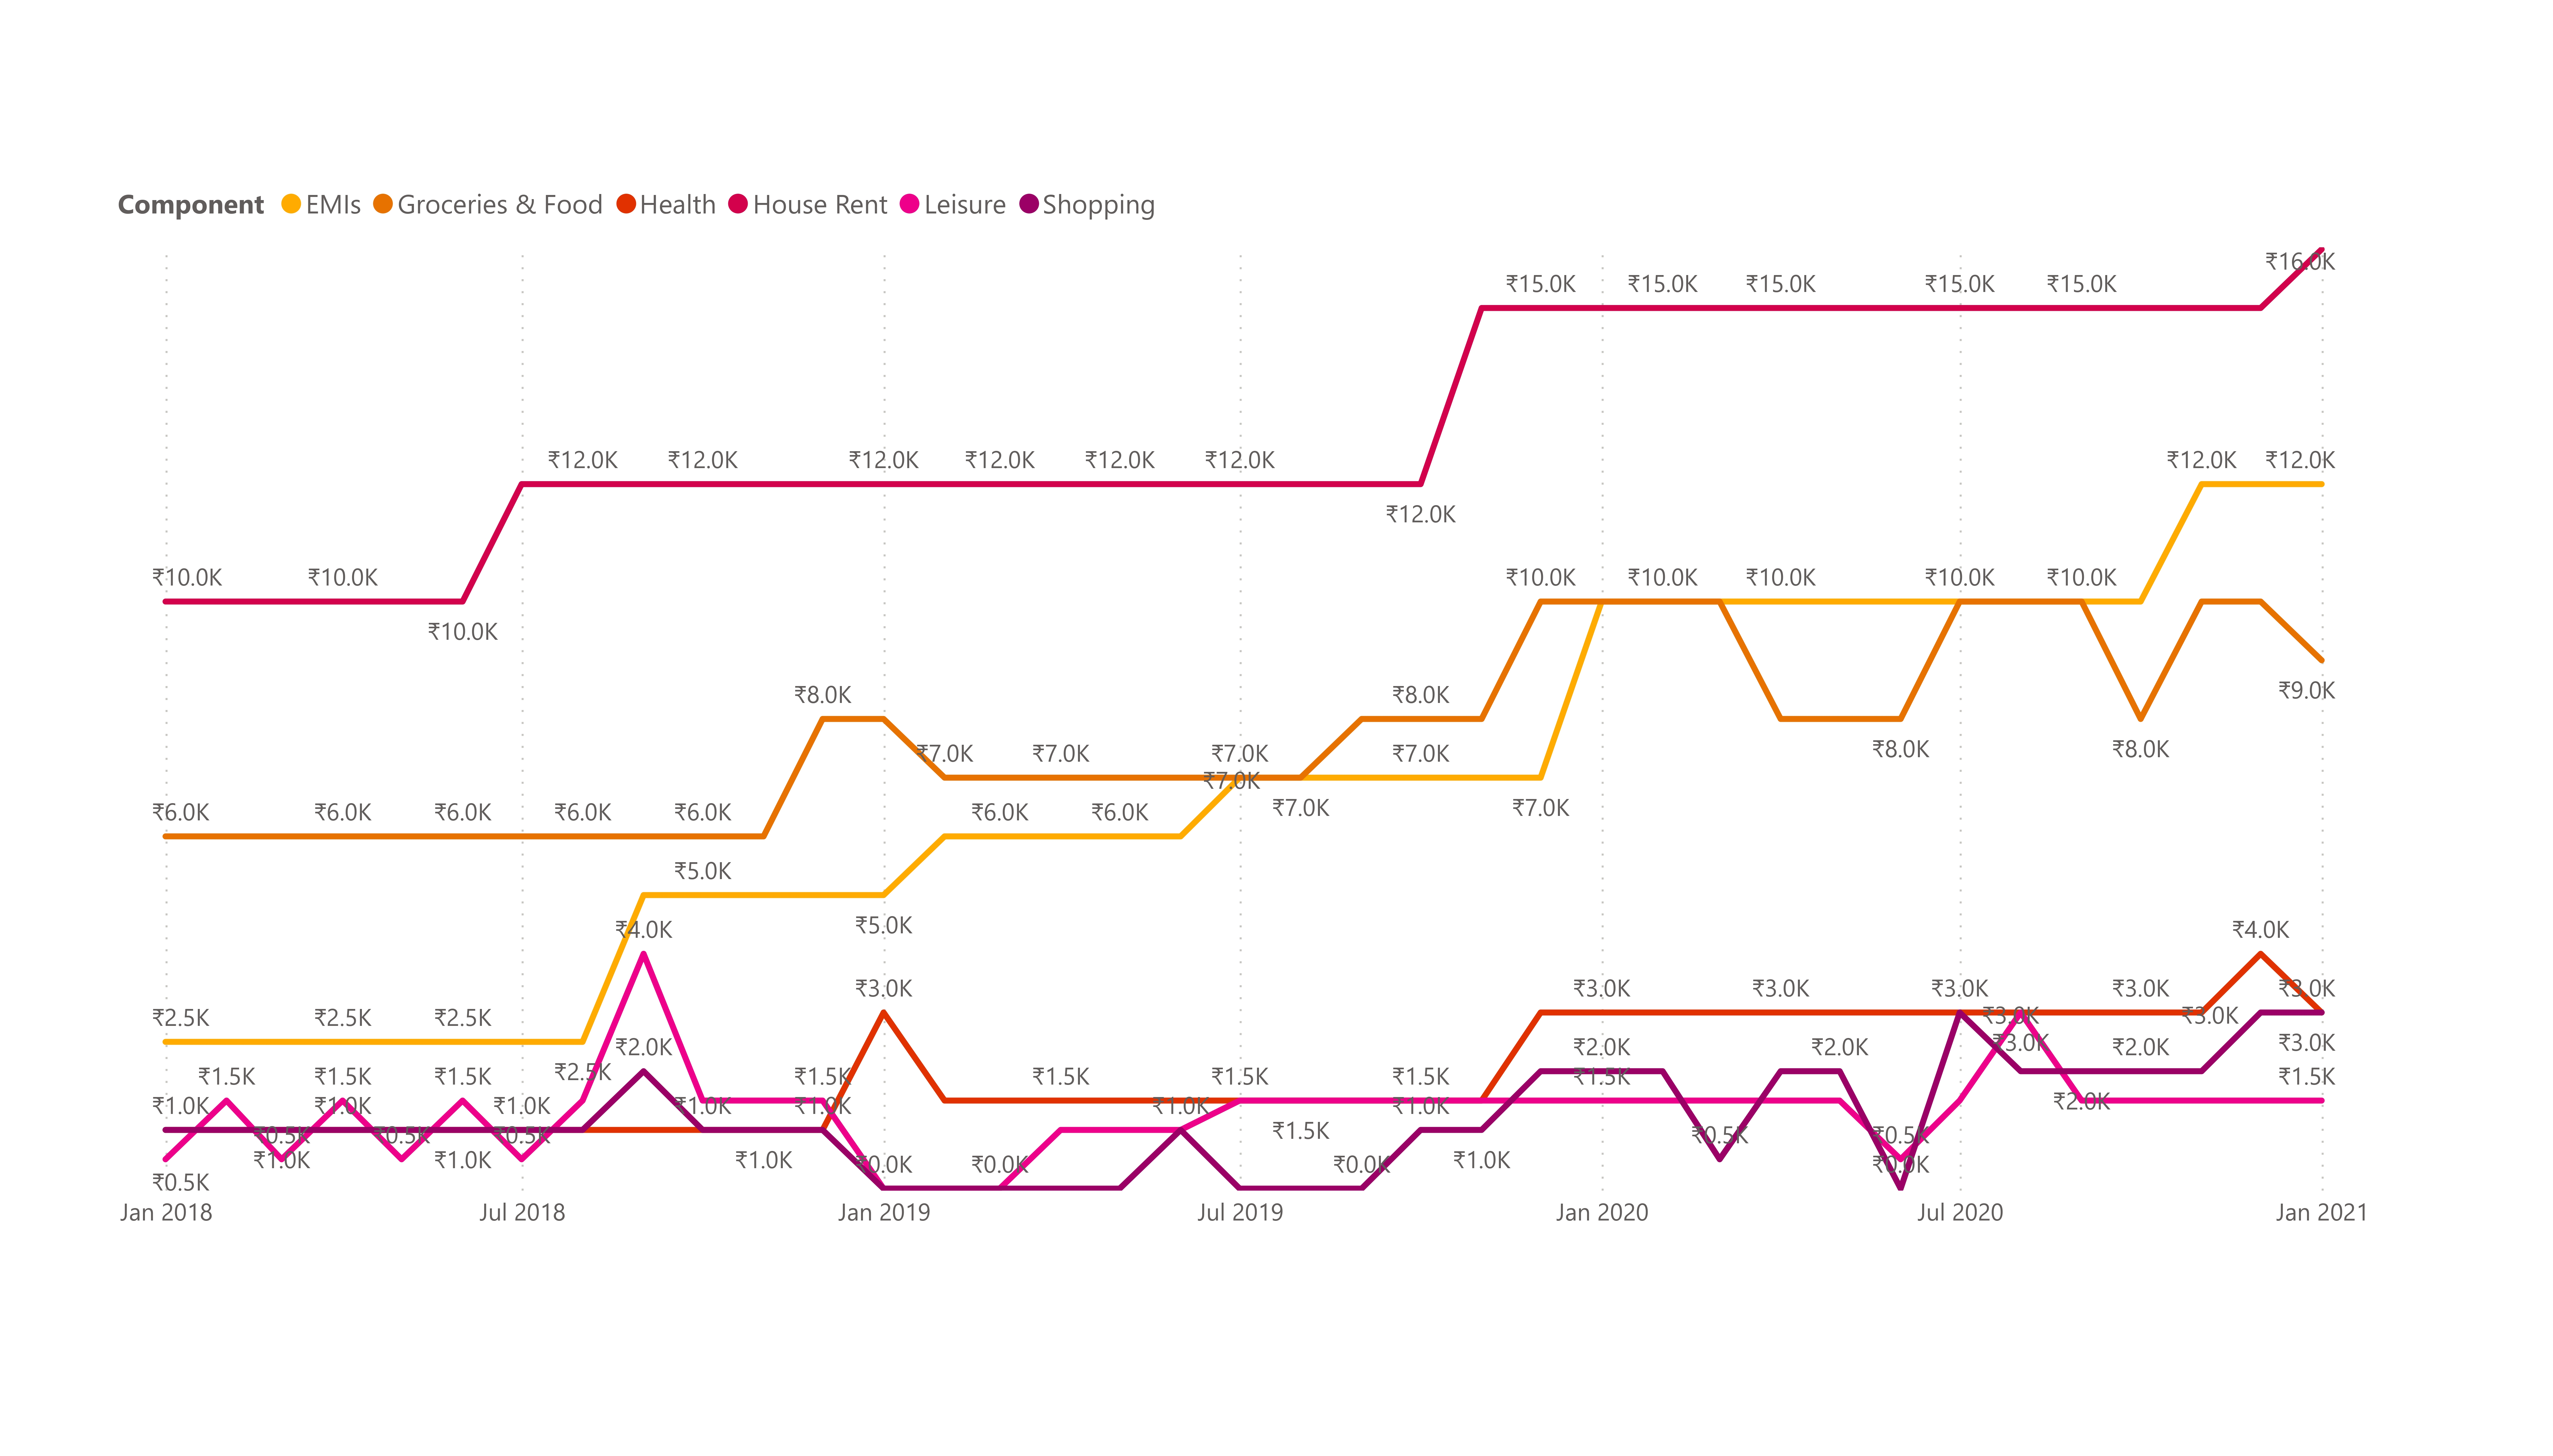

The page's visual inventory and layout, read from the dashboard file:
{"tool":"powerbi","page":{"name":"TT1","canvas":[1280,720],"ordinal":1},"visuals":[{"type":"lineChart","fields":{"Series":["FinData.Component"],"Category":["FinData.Date"],"Y":["Key Measures.Total Expense"]},"box":[54.4,77.2,1139.1,544.3],"z":0}]}

Visuals, with their boxes in screenshot pixels (x1, y1, x2, y2), scaled from the page's 1280x720 canvas onto the 2553x1456 screenshot:
lineChart - FinData.Component x FinData.Date: Rect(109, 156, 2380, 1257)
